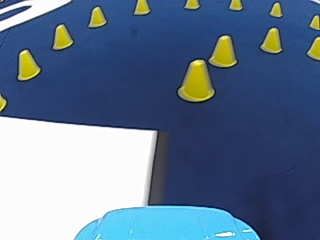cone: (178, 58, 215, 101), (208, 35, 237, 67), (16, 48, 40, 80), (260, 26, 282, 53), (51, 23, 73, 49), (87, 5, 106, 27), (306, 35, 319, 59), (133, 0, 149, 15), (268, 1, 282, 17), (308, 14, 319, 29), (228, 0, 242, 10), (184, 0, 199, 9)
